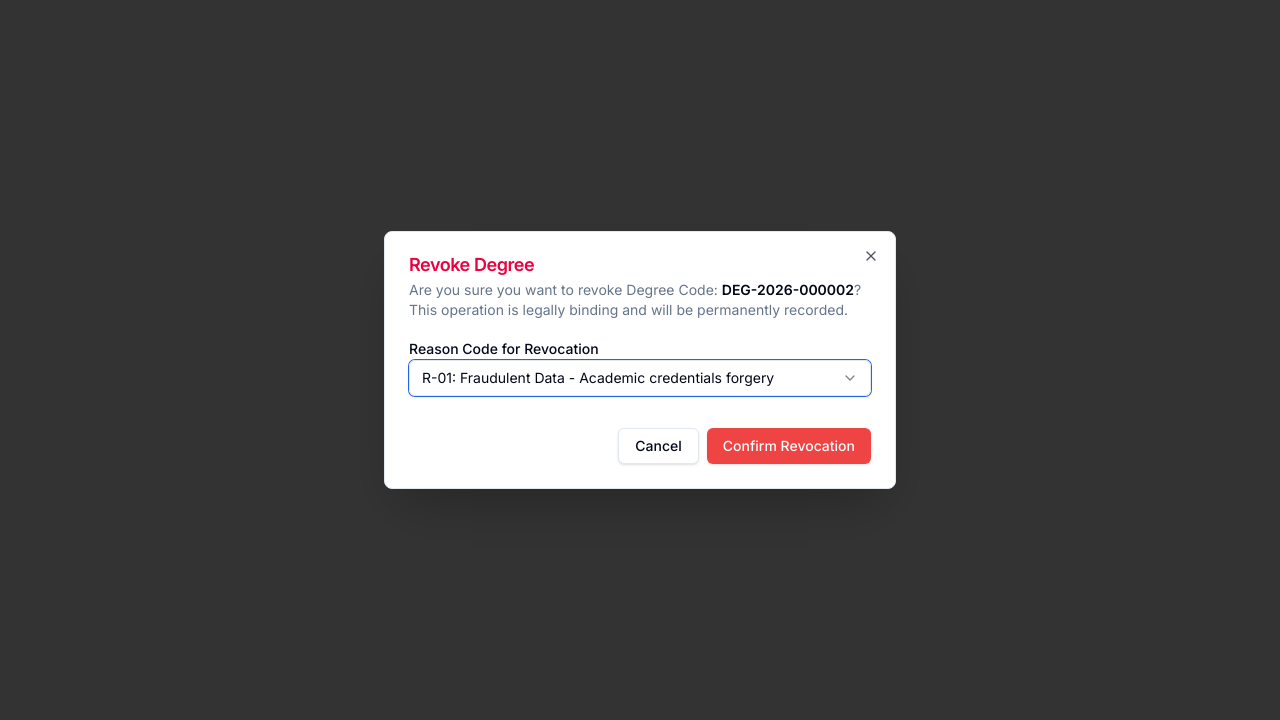
Scenario: RevokeDegreeDialog › displays ambiguous outcome warning on 503 Service Unavailable
What coordinates should you click on to do the following:
click the button "Confirm Revocation"
I would click on:
 (789, 446)
Its box is [707, 428, 871, 464].
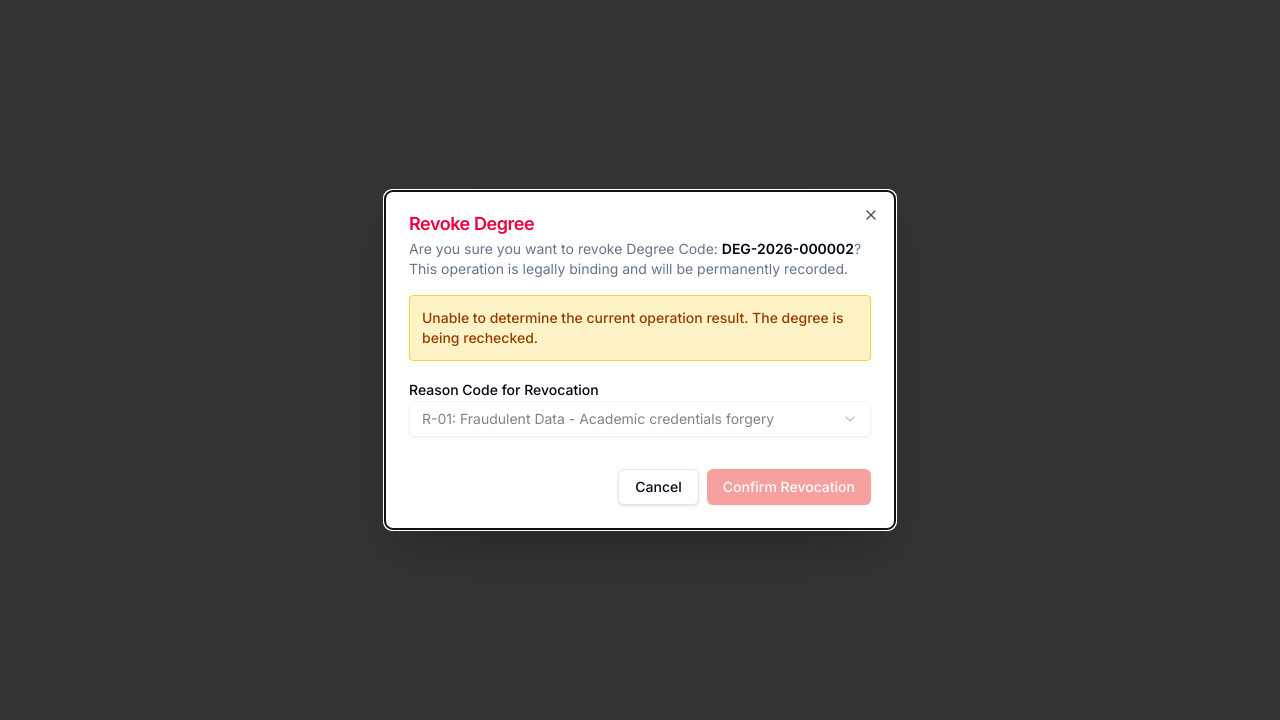
Expected: the text "Unable to determine the current operation result. The degree is being rechecked." is shown, [409, 295, 871, 361]
